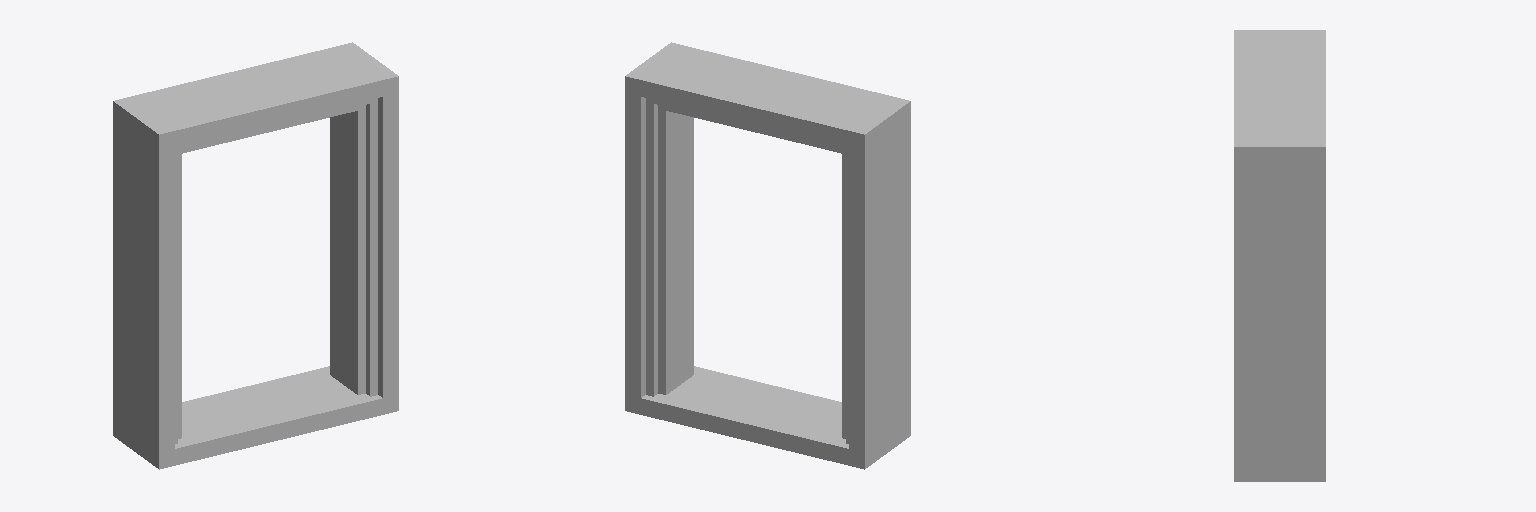
Rendered from doorframe.obj.
3 renders of one model, left to right at view 1: azimuth 30°, elevation 25°; view 2: azimuth 150°, elevation 25°; view 3: azimuth 270°, elevation 25°, orthographic.
Parts seen in each view (by area): view 1: object 1; view 2: object 1; view 3: object 1.
Boxes of the visible parts, <box> form: object 1: <box>113,42,398,469</box>; object 1: <box>625,42,910,469</box>; object 1: <box>1234,30,1325,481</box>.
Size of the model in its own units: 3 by 4 by 1.